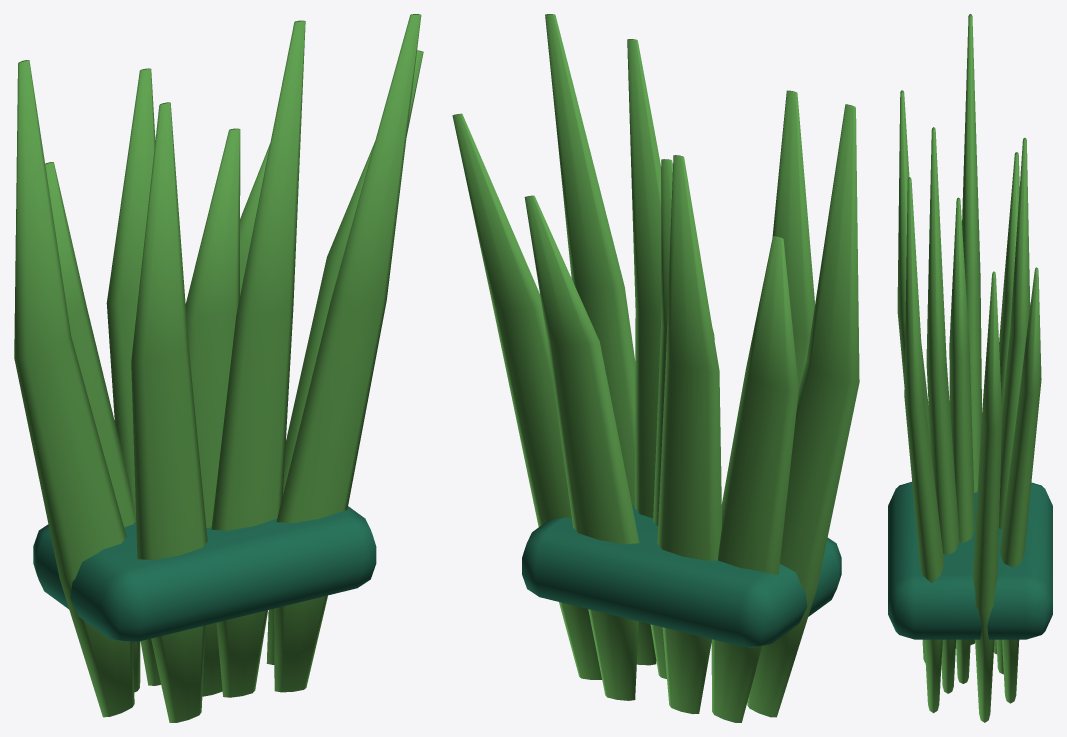
Rendered from chive.glb.
The picture shows the model from 3 angles, left to right: view 1: azimuth 30°, elevation 25°; view 2: azimuth 150°, elevation 25°; view 3: azimuth 270°, elevation 25°; orthographic projection. The views are drawn at different scales.
Parts seen in each view (by area): view 1: chive; view 2: chive; view 3: chive.
Boxes of the visible parts, x1,y1,x2,y2 form: chive: [14, 14, 423, 722]; chive: [452, 14, 859, 722]; chive: [888, 14, 1052, 722].
Bounding box in the file's own units: 0.3682 × 0.5616 × 0.143.
